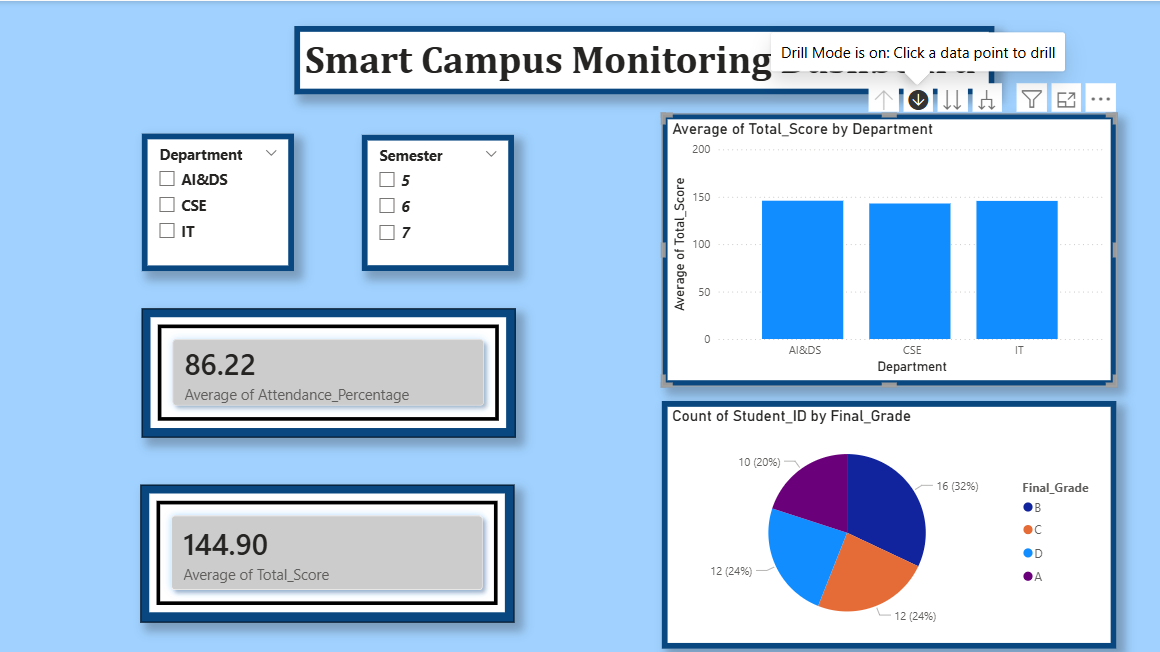

The dashboard page shown, as its layout file describes it:
{"tool":"powerbi","page":{"name":"Page 1","canvas":[1280,720],"ordinal":0},"visuals":[{"type":"textbox","box":[325.2,27.4,768.4,75.5],"z":0},{"type":"cardVisual","fields":{"Data":["Avg(5 student_performance.Attendance_Percentage)"]},"box":[157.8,337.6,410.3,141.3],"z":1000},{"type":"cardVisual","fields":{"Data":["Avg(5 student_performance.Total_Score)"]},"box":[156.4,531,410.3,150.9],"z":2000},{"type":"slicer","fields":{"Values":["5 student_performance.Department"]},"box":[157.8,145.5,167.4,150.9],"z":3000},{"type":"slicer","fields":{"Values":["5 student_performance.Semester"]},"box":[399.3,146.8,167.4,149.6],"z":4000},{"type":"clusteredColumnChart","fields":{"Y":["Avg(5 student_performance.Total_Score)"],"Category":["5 student_performance.Department","5 student_performance.Semester","5 student_performance.Subject"]},"box":[728.6,123.5,499.5,299.1],"z":5000},{"type":"pieChart","fields":{"Category":["5 student_performance.Final_Grade"],"Y":["CountNonNull(5 student_performance.Student_ID)"]},"box":[728.6,439.1,499.5,271.7],"z":6000}]}

Visuals, with their boxes in screenshot pixels (x1, y1, x2, y2), scaled from the page's 1280x720 canvas onto the 1160x652 screenshot:
textbox: l=295, t=25, r=991, b=93
cardVisual - Avg(5 student_performance.Attendance_Percentage): l=143, t=306, r=515, b=434
cardVisual - Avg(5 student_performance.Total_Score): l=142, t=481, r=514, b=617
slicer - 5 student_performance.Department: l=143, t=132, r=295, b=268
slicer - 5 student_performance.Semester: l=362, t=133, r=514, b=268
clusteredColumnChart - Avg(5 student_performance.Total_Score) x 5 student_performance.Department: l=660, t=112, r=1113, b=383
pieChart - 5 student_performance.Final_Grade x CountNonNull(5 student_performance.Student_ID): l=660, t=398, r=1113, b=644
